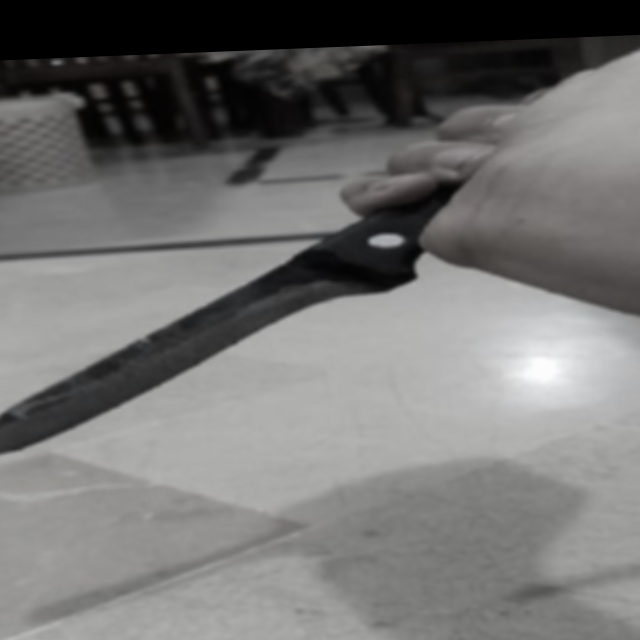Sharp-Object: (0, 186, 475, 454)
